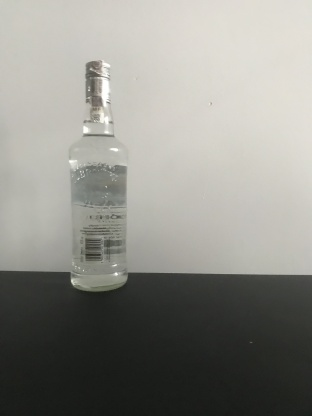nakretka: (83, 58, 114, 103)
